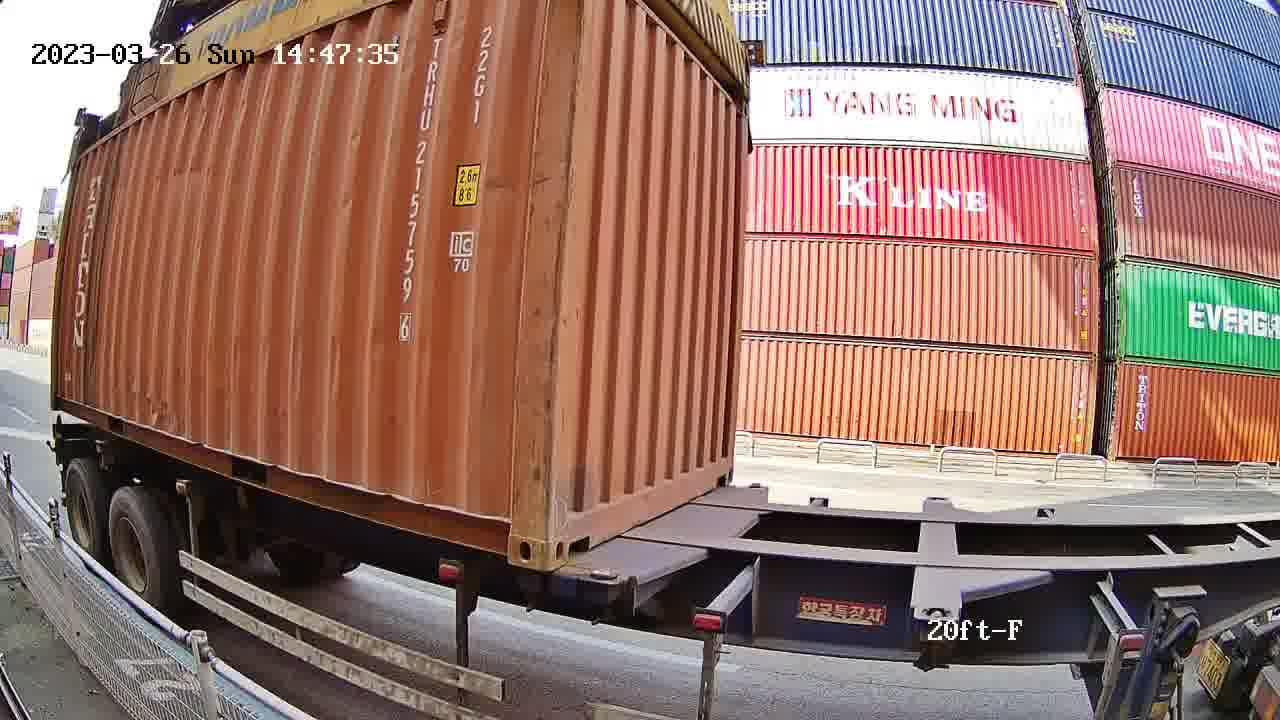Chassis: (577, 483, 767, 581)
Cone: (584, 564, 627, 625), (514, 567, 543, 615)
Hole_L: (544, 489, 591, 572)
Hole_R: (478, 491, 549, 573), (709, 444, 736, 491)
Tire: (106, 490, 165, 614), (64, 464, 101, 565)
